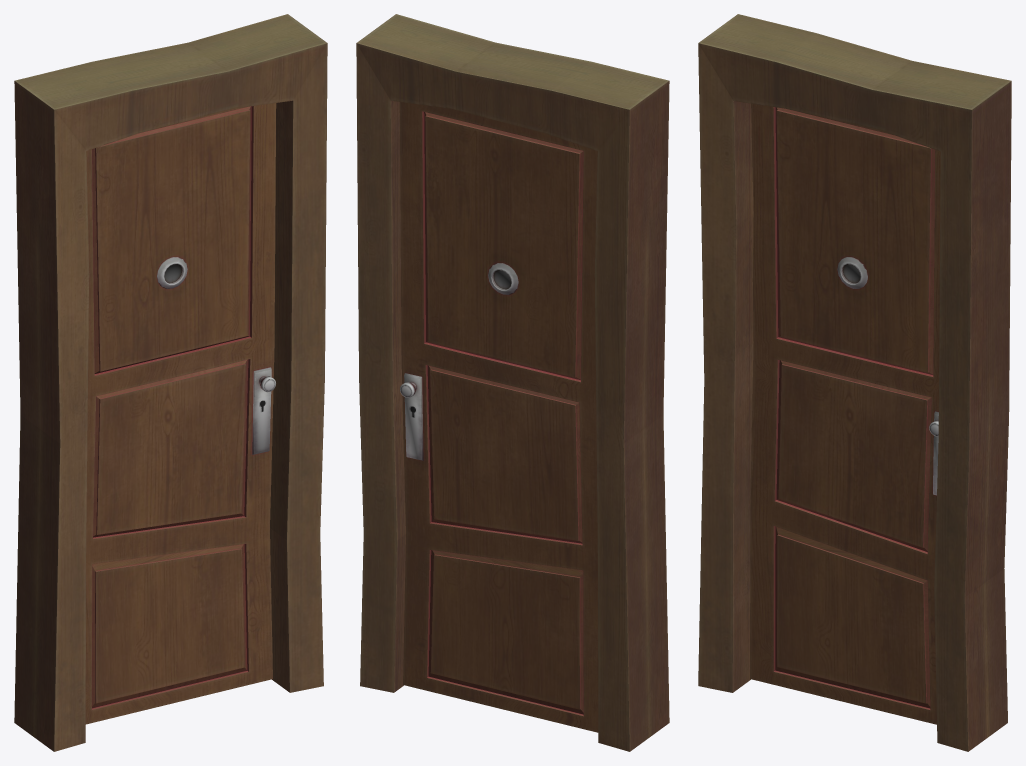
The model's file is Door.fbx.
3 renders of one model, left to right at view 1: azimuth 30°, elevation 25°; view 2: azimuth 150°, elevation 25°; view 3: azimuth 330°, elevation 25°, orthographic.
Visible parts, largest first — view 1: Door, Door Frame, Handle, Peephole; view 2: Door, Door Frame, Handle, Peephole; view 3: Door, Door Frame, Peephole.
Boxes of the visible parts, bbox=[...] form: Door: bbox=[85, 103, 276, 724]; Door Frame: bbox=[14, 14, 327, 751]; Handle: bbox=[252, 367, 275, 454]; Peephole: bbox=[157, 257, 187, 288]; Door: bbox=[399, 102, 598, 732]; Door Frame: bbox=[356, 14, 669, 751]; Handle: bbox=[400, 373, 423, 460]; Peephole: bbox=[488, 263, 518, 294]; Door: bbox=[750, 103, 940, 724]; Door Frame: bbox=[698, 14, 1011, 751]; Peephole: bbox=[837, 257, 867, 288].
Size of the model in its own units: 0.7543 by 0.19 by 1.69.
